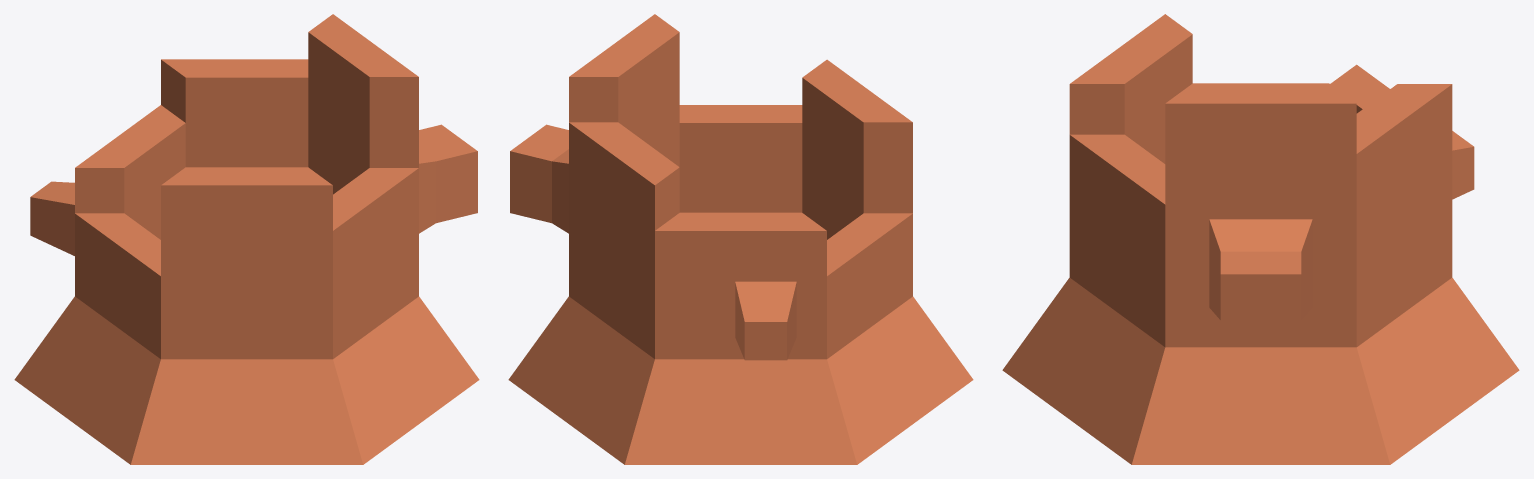
File: stump_old.dae
3 renders of one model, left to right at view 1: azimuth 30°, elevation 25°; view 2: azimuth 150°, elevation 25°; view 3: azimuth 270°, elevation 25°, orthographic. The views are drawn at different scales.
Parts seen in each view (by area): view 1: stump_old; view 2: stump_old; view 3: stump_old.
Boxes of the visible parts, bbox=[...] form: stump_old: bbox=[14, 14, 479, 464]; stump_old: bbox=[508, 14, 973, 464]; stump_old: bbox=[1002, 14, 1519, 464].
Size of the model in its own units: 0.3565 by 0.2665 by 0.371.
